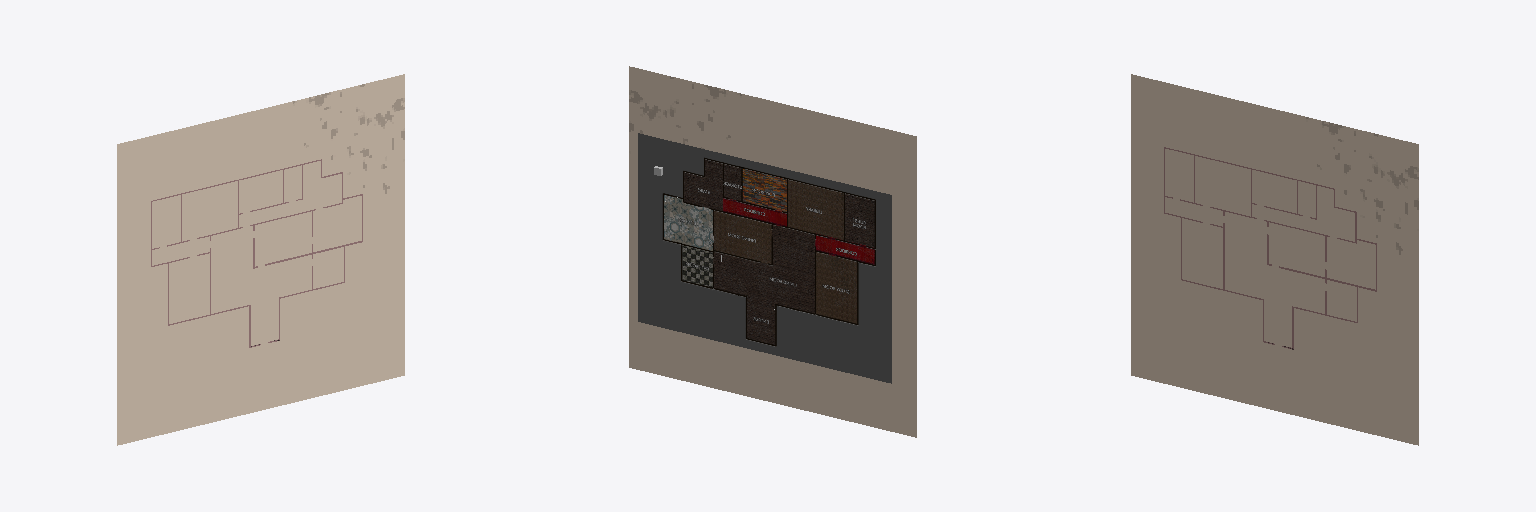
3 views of the same model, side by side, from view 1: azimuth 30°, elevation 25°; view 2: azimuth 150°, elevation 25°; view 3: azimuth 330°, elevation 25° (orthographic).
Visible parts, largest first — view 1: S_Ceiling, S_Walls; view 2: S_RefFloor, S_Ceiling; view 3: S_Ceiling, S_Walls.
Part boxes in pixels (left/top/right/bottom): S_Ceiling: left=117, top=74, right=404, bottom=445; S_Walls: left=151, top=159, right=362, bottom=347; S_RefFloor: left=638, top=133, right=891, bottom=383; S_Ceiling: left=629, top=66, right=916, bottom=437; S_Ceiling: left=1131, top=74, right=1418, bottom=445; S_Walls: left=1164, top=147, right=1376, bottom=349.
Size of the model in its own units: 38.32 by 38.32 by 2.44.
Materials: 11 (7 with a texture image).